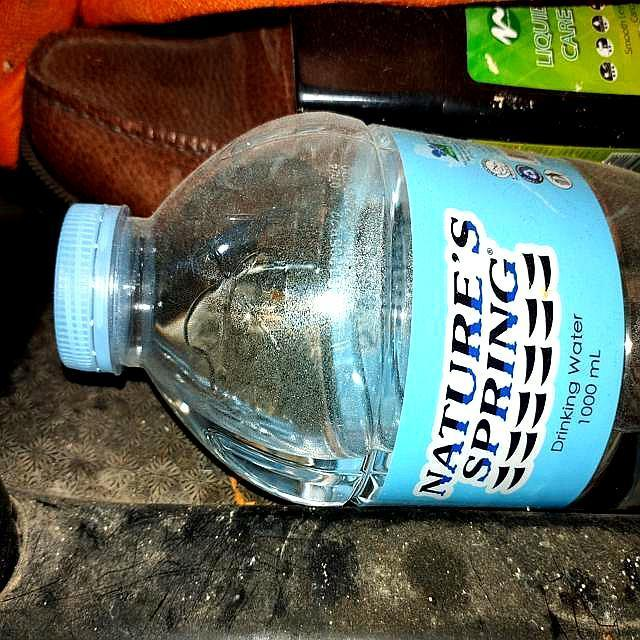Non-biodegradable: (51, 109, 640, 511)
